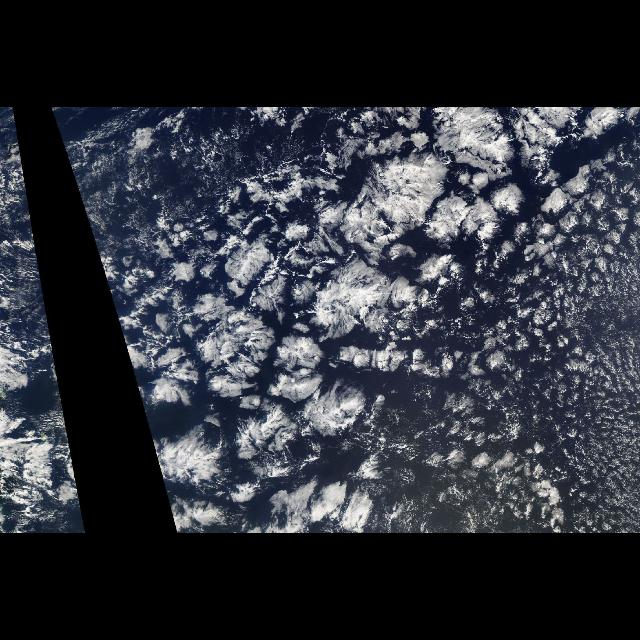Flower: (127, 148, 518, 488)
Sugar: (504, 268, 640, 534)
